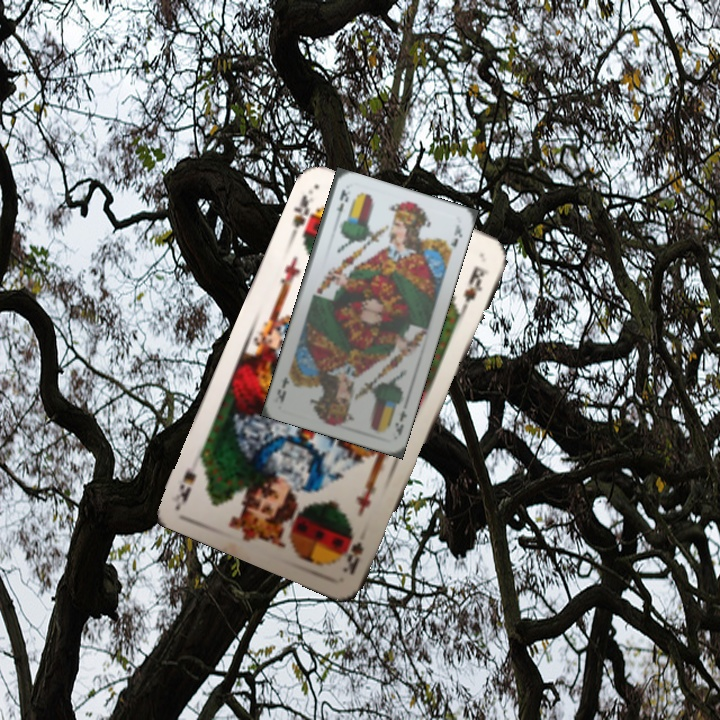EK: (331, 185, 353, 225), (391, 406, 409, 438)
SK: (287, 190, 321, 243), (338, 537, 366, 578)
